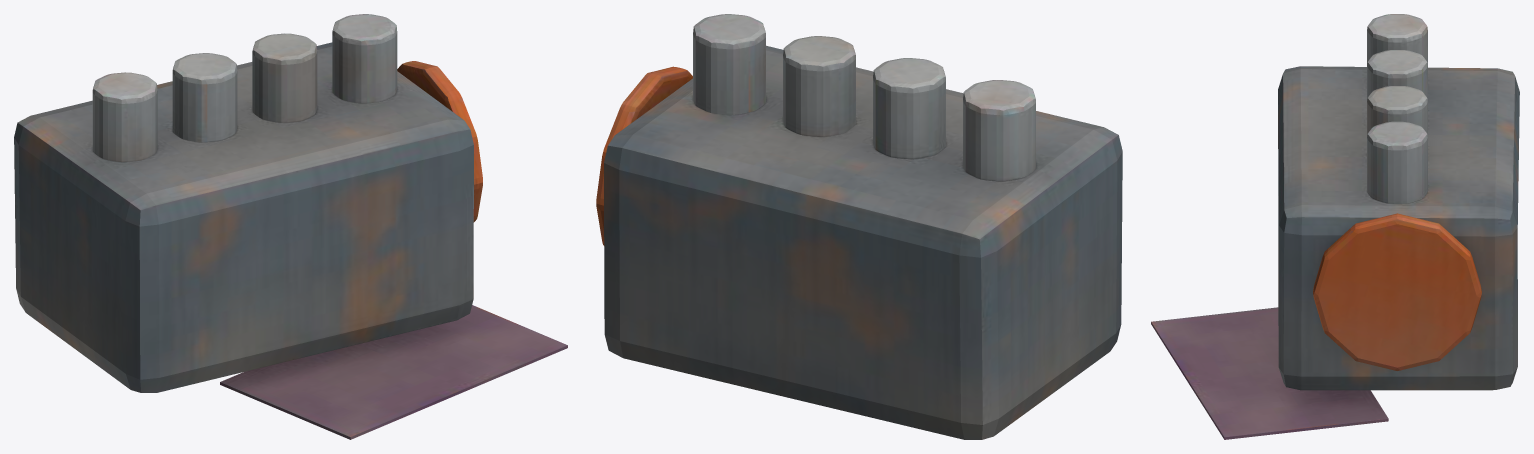
Rendered from engine_block.glb.
3 views of the same model, side by side, from view 1: azimuth 30°, elevation 25°; view 2: azimuth 150°, elevation 25°; view 3: azimuth 270°, elevation 25° (orthographic). The views are drawn at different scales.
Parts seen in each view (by area): view 1: EngineBlock_Mesh; view 2: EngineBlock_Mesh; view 3: EngineBlock_Mesh.
Boxes of the visible parts, left/top/right/bottom form: EngineBlock_Mesh: left=14, top=14, right=567, bottom=439; EngineBlock_Mesh: left=596, top=14, right=1122, bottom=439; EngineBlock_Mesh: left=1151, top=14, right=1519, bottom=439.
Size of the model in its own units: 1.51 by 1 by 1.3.
1 material, 1 textured.
